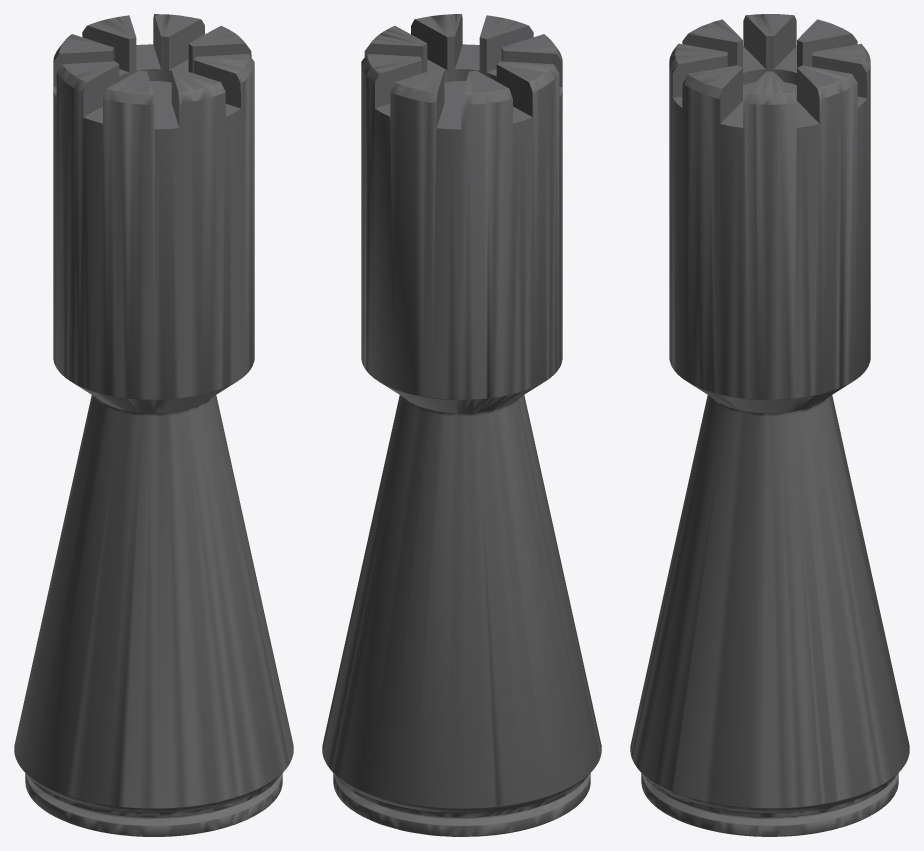
The model's file is king-black.glb.
3 views of the same model, side by side, from view 1: azimuth 30°, elevation 25°; view 2: azimuth 150°, elevation 25°; view 3: azimuth 270°, elevation 25° (orthographic).
Parts seen in each view (by area): view 1: 01_kral_cerna; view 2: 01_kral_cerna; view 3: 01_kral_cerna.
Boxes of the visible parts, bbox=[...] form: 01_kral_cerna: bbox=[14, 14, 293, 836]; 01_kral_cerna: bbox=[322, 14, 601, 836]; 01_kral_cerna: bbox=[630, 14, 909, 836].
Bounding box in the file's own units: 0.5729 × 1.65 × 0.5729.
Materials: 1 (1 with a texture image).
